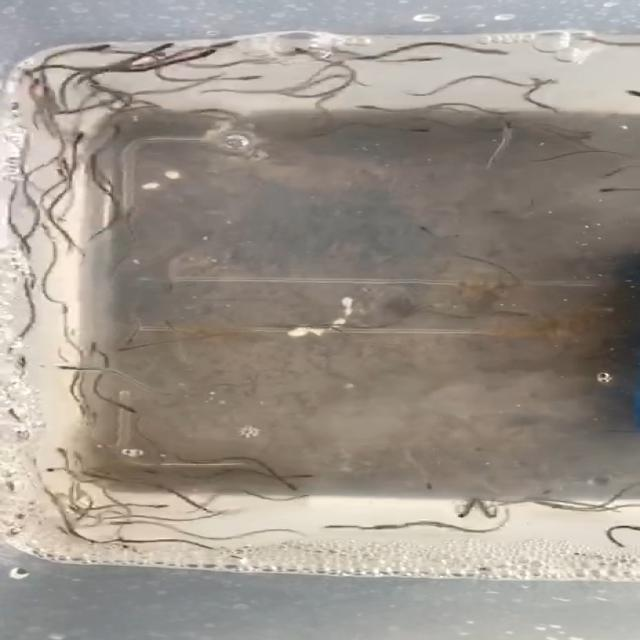inactive_glass_eel: (105, 334, 132, 357), (531, 76, 574, 90), (594, 183, 625, 200), (46, 155, 78, 171), (481, 46, 519, 59), (115, 398, 144, 415), (8, 348, 31, 369), (78, 41, 114, 54), (291, 469, 326, 482), (598, 533, 630, 547), (407, 124, 438, 138), (230, 72, 273, 82), (95, 122, 128, 135), (602, 85, 640, 96), (413, 220, 438, 236), (205, 36, 238, 48), (20, 65, 55, 76), (66, 128, 93, 142), (44, 460, 69, 475), (78, 148, 104, 162), (287, 47, 321, 57), (57, 361, 80, 375), (86, 80, 118, 90), (104, 519, 142, 527), (412, 54, 442, 64), (358, 100, 388, 110), (18, 82, 48, 92), (523, 75, 549, 86), (188, 49, 235, 55), (150, 42, 178, 52), (276, 482, 304, 492), (284, 492, 318, 500), (454, 504, 473, 518), (116, 534, 138, 546), (366, 522, 392, 532), (2, 407, 24, 418), (46, 167, 72, 176), (416, 481, 437, 492), (152, 502, 174, 512), (496, 112, 508, 128), (52, 445, 70, 455), (318, 523, 346, 529), (331, 59, 351, 66)
